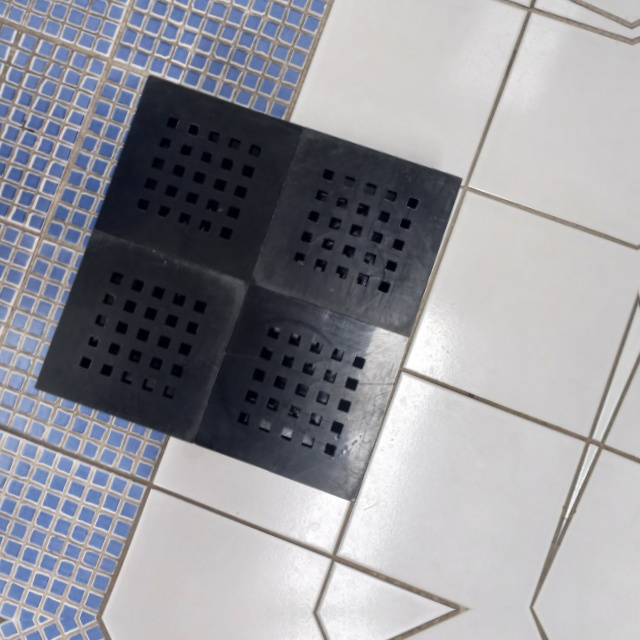pallet: (27, 68, 468, 506)
